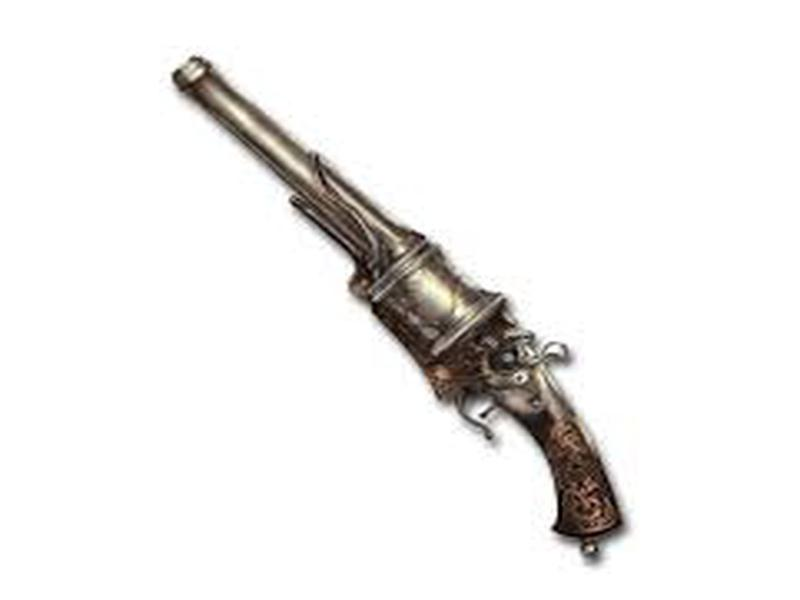gun: (170, 48, 624, 561)
